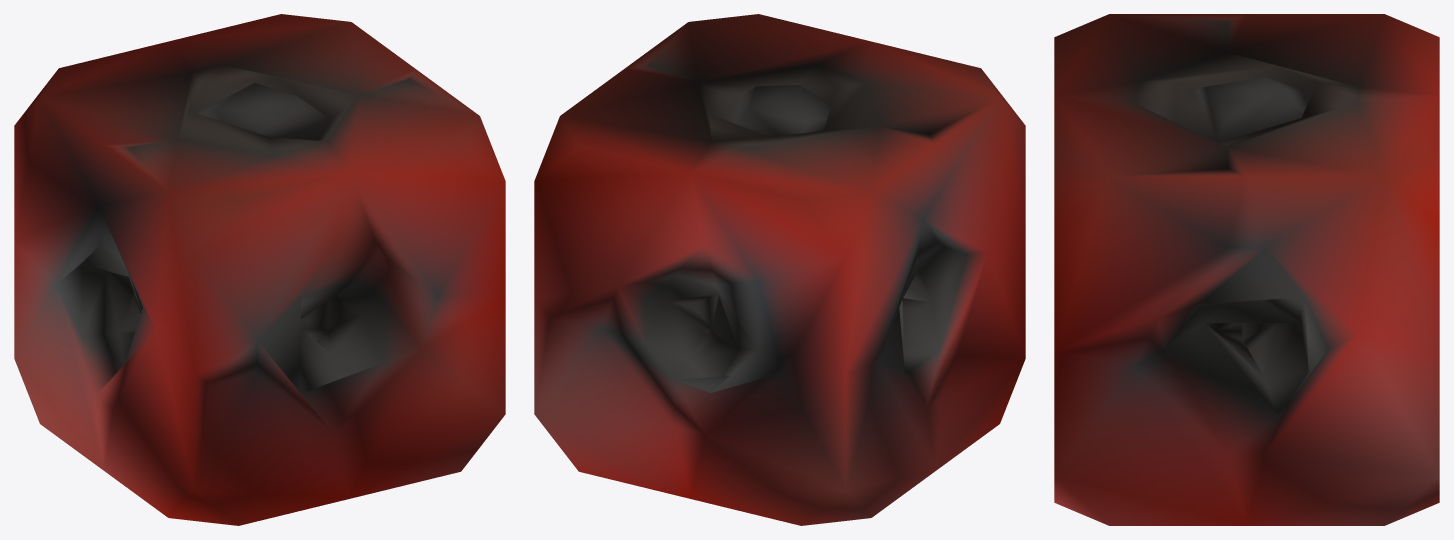
File: solar_box_lod5.glb
3 renders of one model, left to right at view 1: azimuth 30°, elevation 25°; view 2: azimuth 150°, elevation 25°; view 3: azimuth 270°, elevation 25°, orthographic. The views are drawn at different scales.
Visible parts, largest first — view 1: solar_box; view 2: solar_box; view 3: solar_box.
Part boxes in pixels (x1=…): solar_box: x1=14, y1=14, x2=505, y2=525; solar_box: x1=534, y1=14, x2=1025, y2=525; solar_box: x1=1054, y1=14, x2=1439, y2=525.
Size of the model in its own units: 2 by 2.05 by 2.
